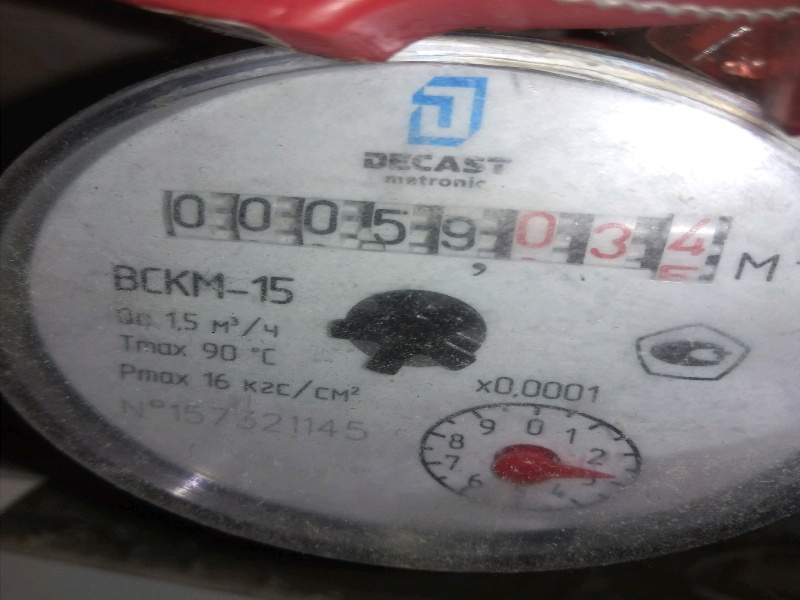meter: (162, 176, 734, 278)
